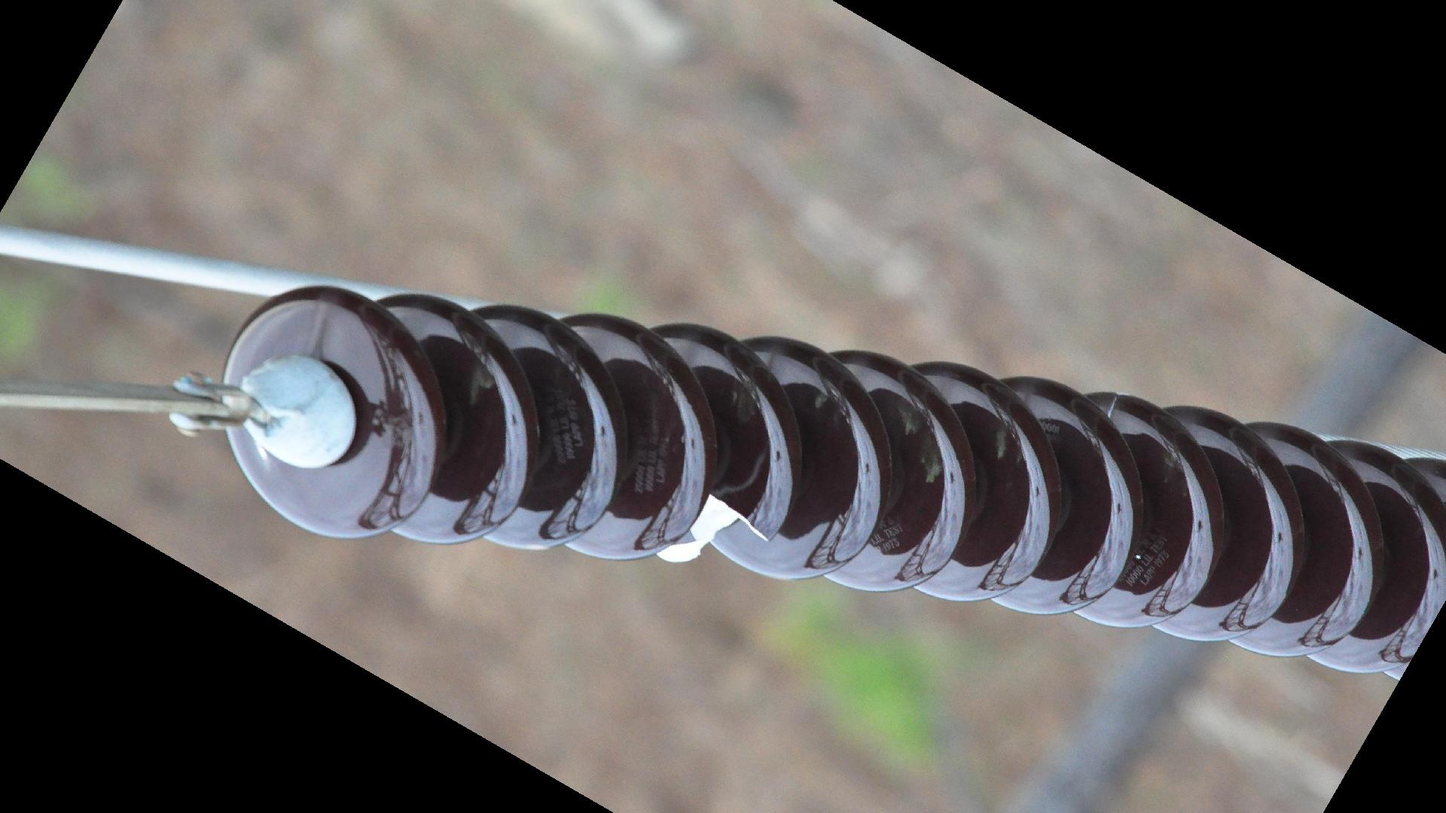insulator: (215, 278, 1446, 688)
insulator_breakage: (646, 486, 775, 568)
